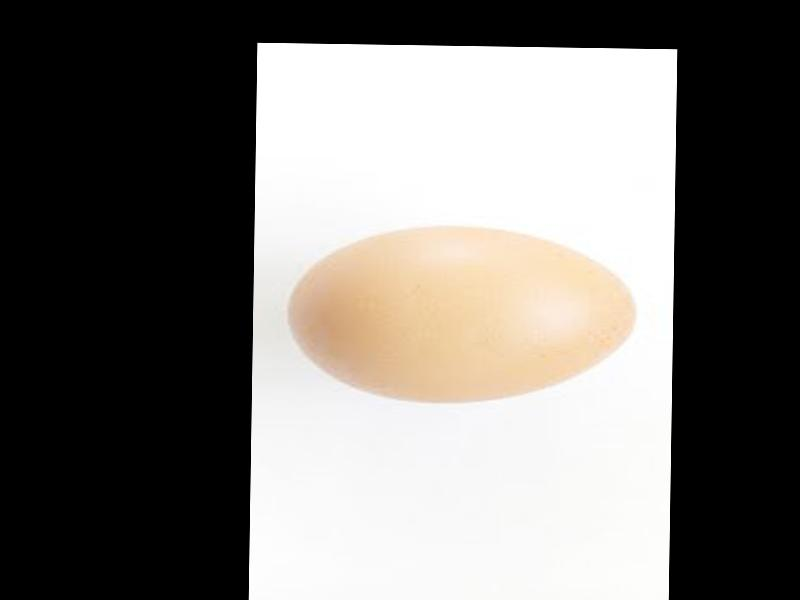Eggs: (288, 225, 637, 406)
